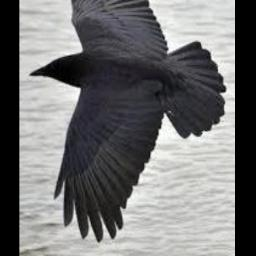Crow: (30, 0, 227, 241)
